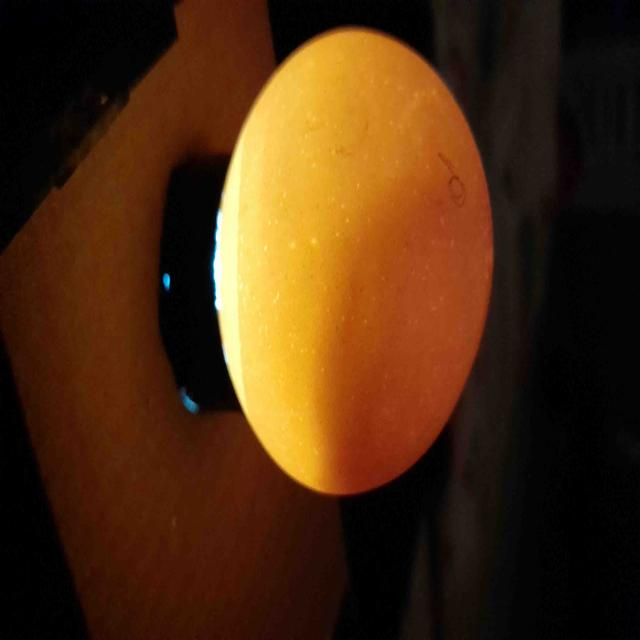Eggs: (216, 28, 494, 494)
